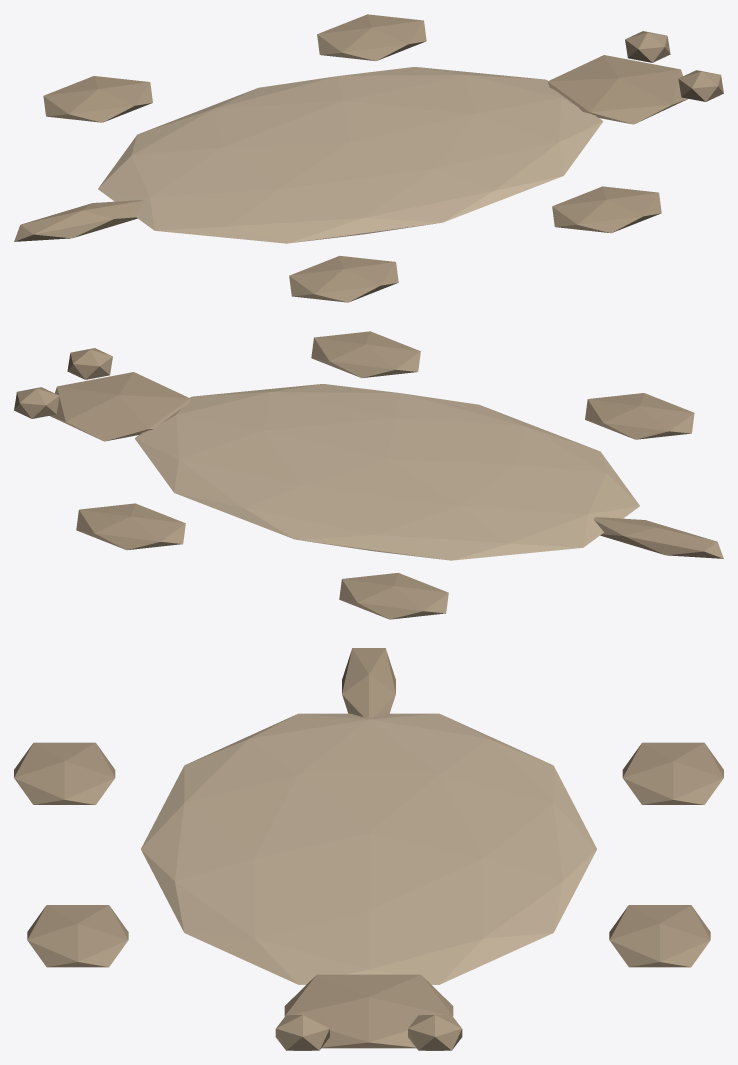
File: Hide_gen.glb
The picture shows the model from 3 angles, top to bottom: view 1: azimuth 30°, elevation 25°; view 2: azimuth 150°, elevation 25°; view 3: azimuth 270°, elevation 25°; orthographic projection. The views are drawn at different scales.
Parts seen in each view (by area): view 1: hide_body; view 2: hide_body; view 3: hide_body.
Boxes of the visible parts, x1,y1,x2,y2 form: hide_body: [14, 14, 723, 302]; hide_body: [14, 331, 723, 619]; hide_body: [14, 648, 723, 1050].
Bounding box in the file's own units: 1.47 × 0.077 × 1.07.
